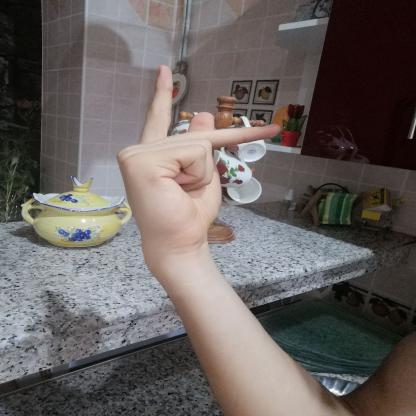DHAA: (101, 57, 294, 259)
